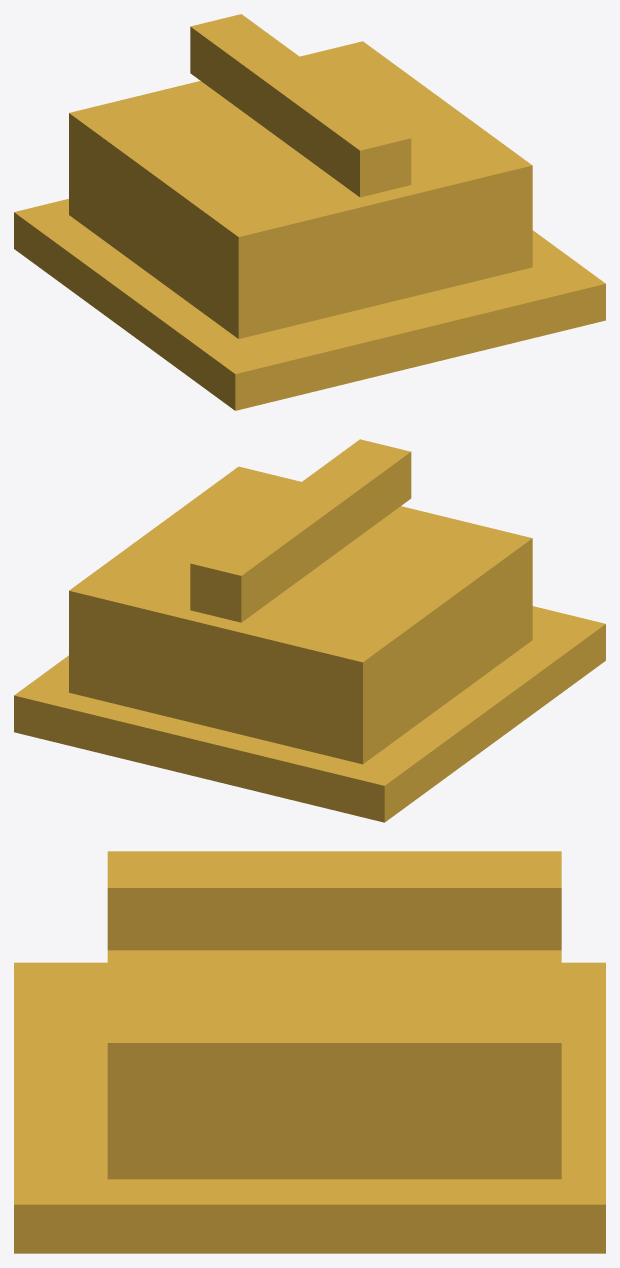
The model's file is gold_hardhat.glb.
3 renders of one model, top to bottom at view 1: azimuth 30°, elevation 25°; view 2: azimuth 150°, elevation 25°; view 3: azimuth 270°, elevation 25°, orthographic. The views are drawn at different scales.
Parts seen in each view (by area): view 1: gold_hardhat; view 2: gold_hardhat; view 3: gold_hardhat.
Part boxes in pixels (box(x1,y1,x2,y2)): gold_hardhat: box(14, 14, 605, 410); gold_hardhat: box(14, 439, 605, 822); gold_hardhat: box(14, 851, 605, 1253).
Size of the model in its own units: 0.58 by 0.2925 by 0.6.
